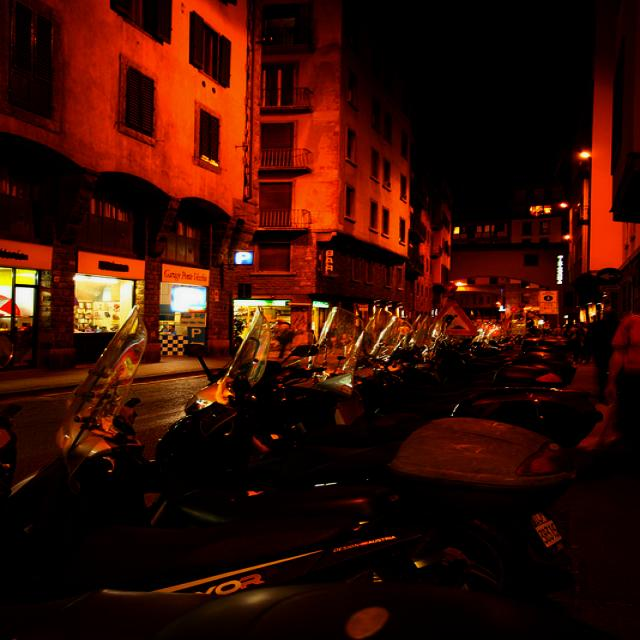Motorbike: (0, 304, 587, 640)
